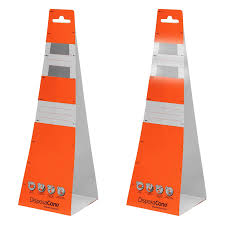cones: (122, 8, 210, 212), (19, 9, 99, 212)
